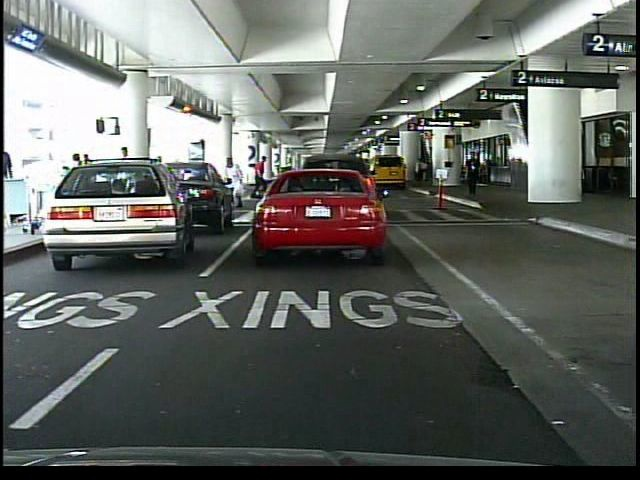person: (0, 140, 19, 226), (117, 145, 135, 218), (231, 157, 247, 209), (465, 152, 483, 197), (249, 153, 267, 197), (414, 155, 427, 190)
